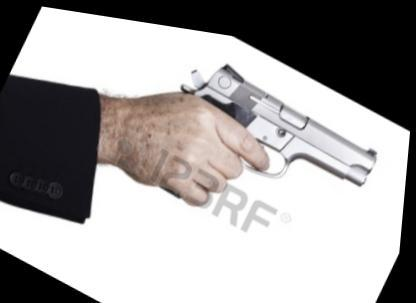pistol: (126, 23, 396, 272)
